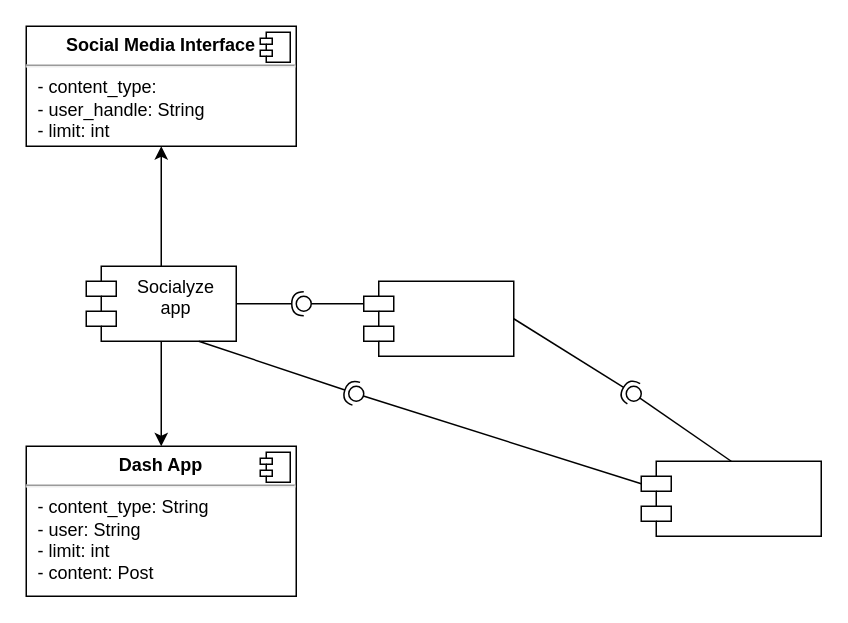
Image size: 848x623. Some labels were removed from this diagram. Here are the shapes that lost their labels. From the top down, the centre of each, then its label:
At point 438,318: "Django auth.user".
At point 730,498: "PostgreSQL Database".
